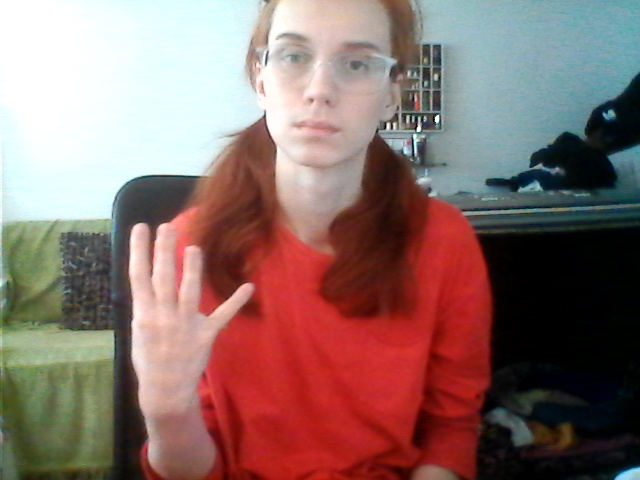kedy: (103, 214, 269, 406)
